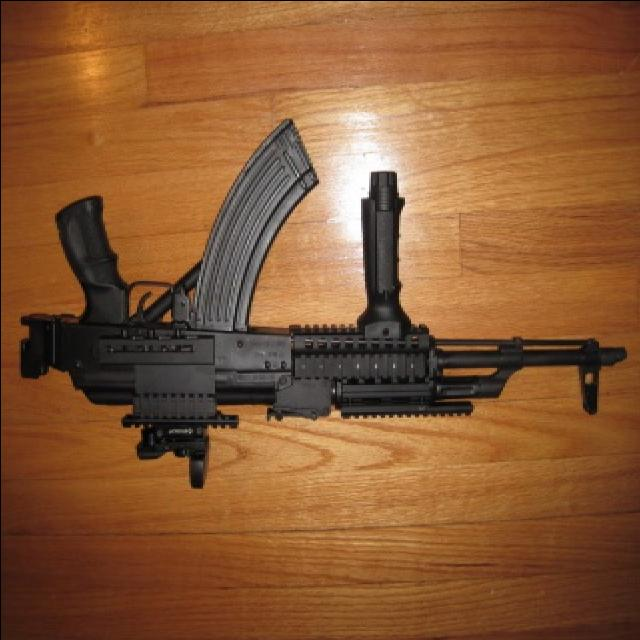rifle: (19, 119, 629, 495)
